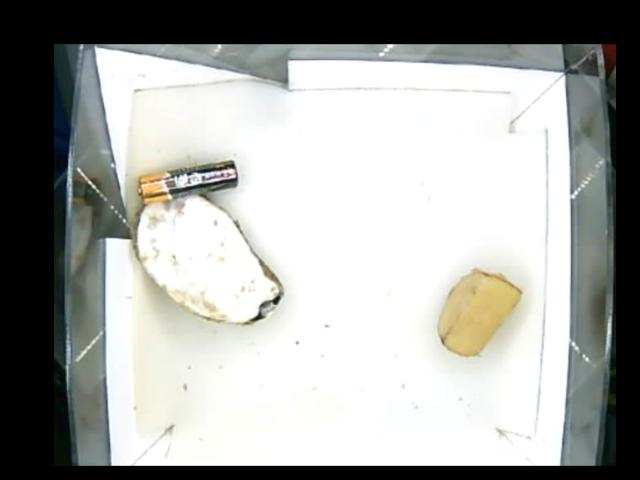Battery: (136, 157, 239, 203)
Potato: (433, 269, 522, 357)
Shell: (131, 193, 283, 327)
